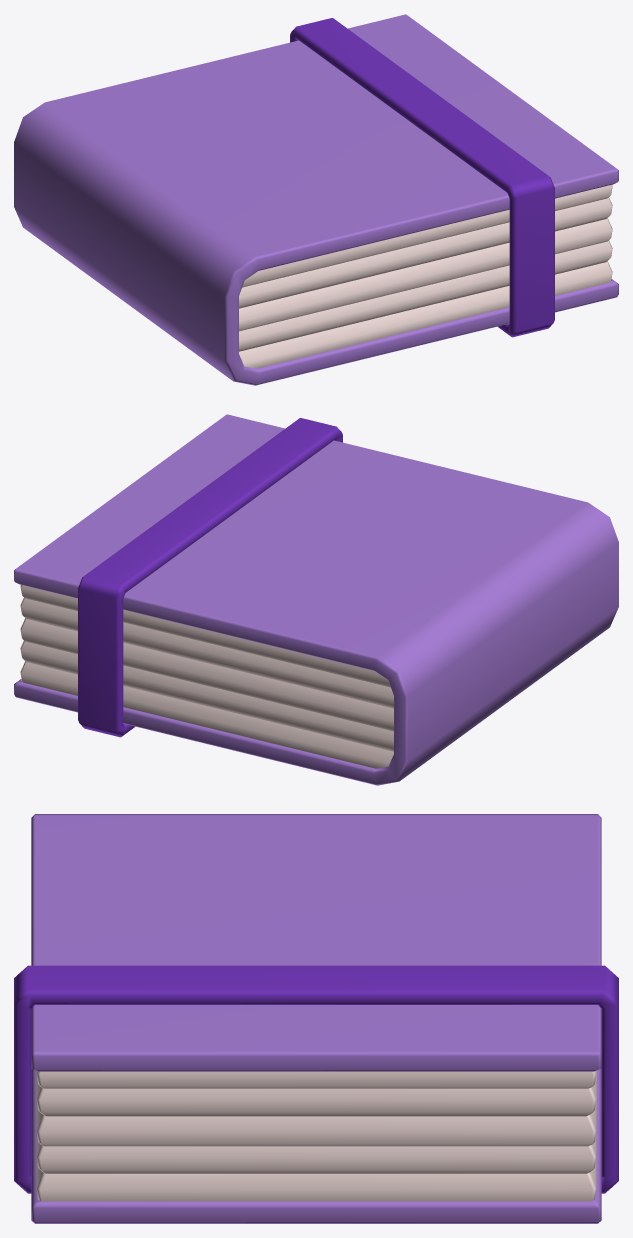
The model's file is City_2_Diary_1.glb.
3 views of the same model, one above another, from view 1: azimuth 30°, elevation 25°; view 2: azimuth 150°, elevation 25°; view 3: azimuth 270°, elevation 25° (orthographic). The views are drawn at different scales.
Visible parts, largest first — view 1: City_2_Diary_1; view 2: City_2_Diary_1; view 3: City_2_Diary_1.
Boxes of the visible parts, bbox=[...] form: City_2_Diary_1: bbox=[14, 14, 618, 385]; City_2_Diary_1: bbox=[14, 414, 618, 785]; City_2_Diary_1: bbox=[14, 814, 618, 1223].
Size of the model in its own units: 0.3779 by 0.1399 by 0.3755.
1 material, 1 textured.
